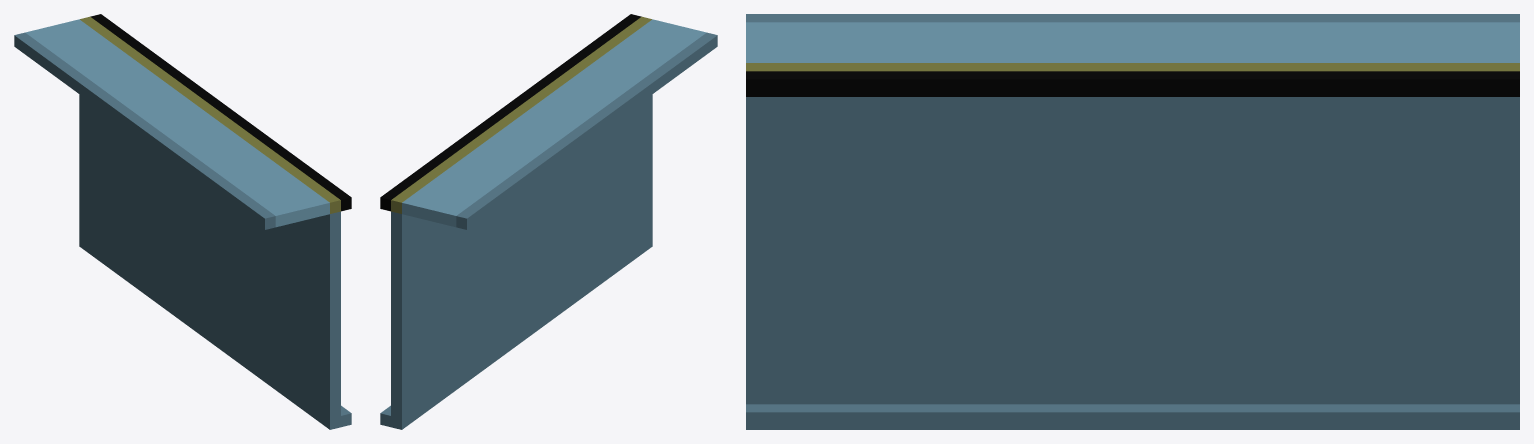
The model's file is Step.obj.
The picture shows the model from 3 angles, left to right: view 1: azimuth 30°, elevation 25°; view 2: azimuth 150°, elevation 25°; view 3: azimuth 270°, elevation 25°; orthographic projection. The views are drawn at different scales.
Parts seen in each view (by area): view 1: Step.003; view 2: Step.003; view 3: Step.003.
Part boxes in pixels (x1,y1,x2,y2): Step.003: (14,14,351,429); Step.003: (380,14,717,429); Step.003: (746,14,1519,429).
Size of the model in its own units: 0.8 by 2 by 4.
Materials: 1 (1 with a texture image).
